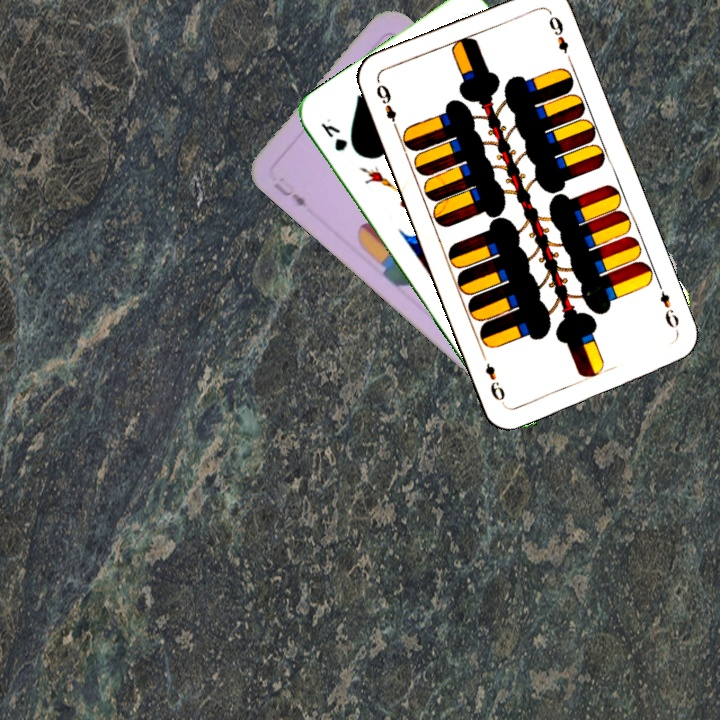E9: (372, 78, 401, 135), (654, 280, 682, 337)
EU: (269, 178, 310, 211)
GK: (316, 114, 350, 154)
